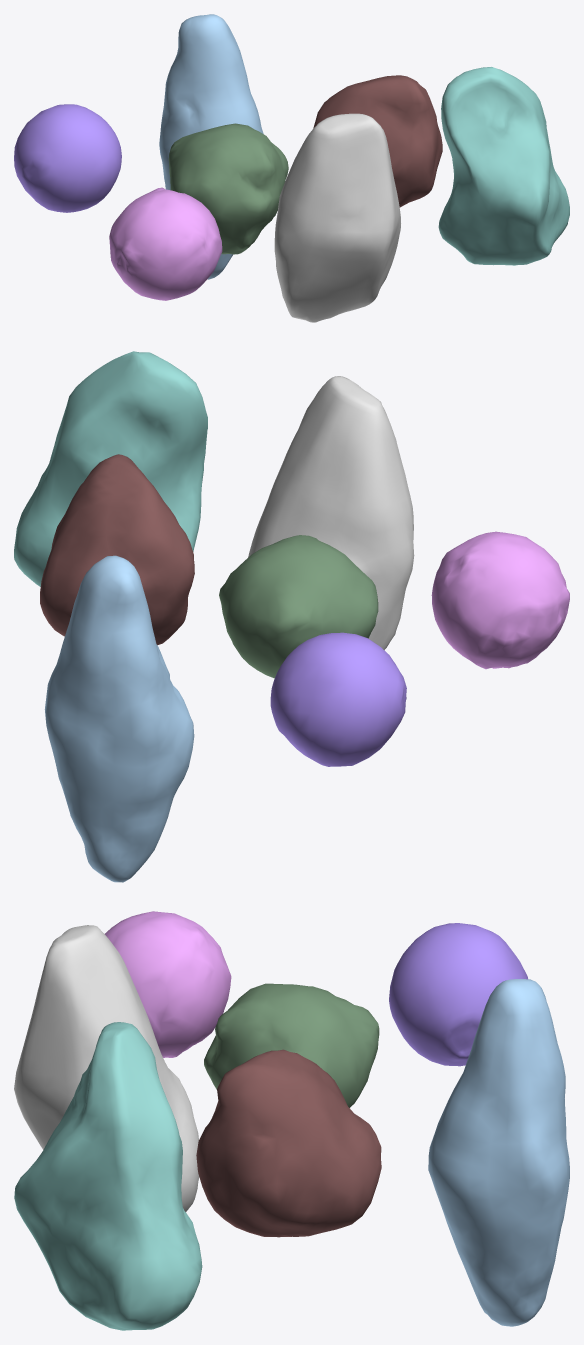
Rendered from Meteor-Group.fbx.
3 views of the same model, one above another, from view 1: azimuth 30°, elevation 25°; view 2: azimuth 150°, elevation 25°; view 3: azimuth 270°, elevation 25° (orthographic). The views are drawn at different scales.
Visible parts, largest first — view 1: Meteor_Cuboid_1, Meteor_Cuboid_2, Meteor_Cube_1, Meteor_Ball_1, Meteor_Cuboid_3, Meteor_Ball_2, Meteor_Cube_2; view 2: Meteor_Cuboid_3, Meteor_Cuboid_1, Meteor_Cuboid_2, Meteor_Cube_2, Meteor_Ball_1, Meteor_Cube_1, Meteor_Ball_2; view 3: Meteor_Cuboid_2, Meteor_Cuboid_3, Meteor_Cube_2, Meteor_Cuboid_1, Meteor_Ball_2, Meteor_Cube_1, Meteor_Ball_1.
Part boxes in pixels (x1=…): Meteor_Cuboid_1: x1=274, y1=113, x2=400, y2=322; Meteor_Cuboid_2: x1=438, y1=67, x2=569, y2=265; Meteor_Cube_1: x1=168, y1=123, x2=288, y2=254; Meteor_Ball_1: x1=109, y1=187, x2=222, y2=300; Meteor_Cuboid_3: x1=159, y1=14, x2=263, y2=279; Meteor_Ball_2: x1=14, y1=104, x2=121, y2=212; Meteor_Cube_2: x1=313, y1=75, x2=442, y2=207; Meteor_Cuboid_3: x1=44, y1=555, x2=194, y2=882; Meteor_Cuboid_1: x1=248, y1=376, x2=414, y2=650; Meteor_Cuboid_2: x1=14, y1=351, x2=207, y2=586; Meteor_Cube_2: x1=40, y1=454, x2=194, y2=645; Meteor_Ball_1: x1=431, y1=531, x2=569, y2=669; Meteor_Cube_1: x1=219, y1=535, x2=378, y2=678; Meteor_Ball_2: x1=270, y1=632, x2=406, y2=766; Meteor_Cuboid_2: x1=14, y1=1022, x2=202, y2=1330; Meteor_Cuboid_3: x1=428, y1=979, x2=569, y2=1326; Meteor_Cube_2: x1=196, y1=1049, x2=381, y2=1237; Meteor_Cuboid_1: x1=14, y1=925, x2=199, y2=1211; Meteor_Ball_2: x1=389, y1=923, x2=527, y2=1066; Meteor_Cube_1: x1=204, y1=983, x2=379, y2=1107; Meteor_Ball_1: x1=105, y1=911, x2=231, y2=1057.
Bounding box in the file's own units: 9.72 × 6.01 × 7.97.
